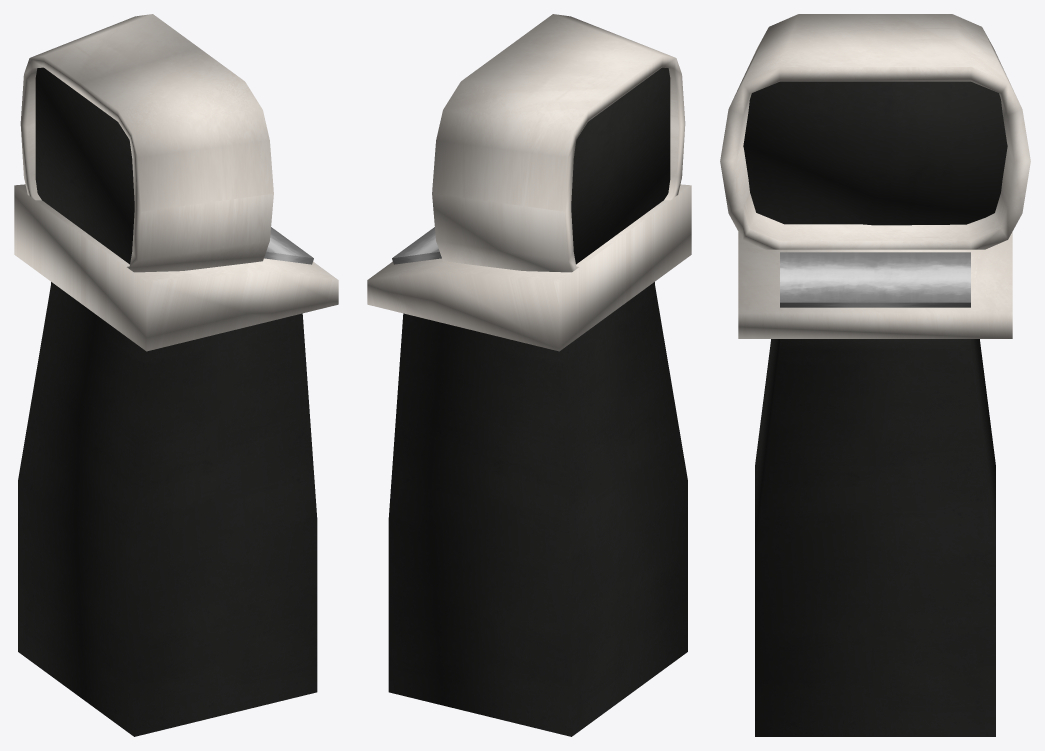
Rendered from console.fbx.
3 renders of one model, left to right at view 1: azimuth 30°, elevation 25°; view 2: azimuth 150°, elevation 25°; view 3: azimuth 270°, elevation 25°, orthographic. The views are drawn at different scales.
Parts seen in each view (by area): view 1: Cube.006, Cube.003, Cube.004, Cube, Cube.005; view 2: Cube.006, Cube.003, Cube.004, Cube, Cube.005; view 3: Cube.006, Cube, Cube.003, Cube.004, Cube.005.
Boxes of the visible parts, x1=… form: Cube.006: x1=18, y1=282, x2=317, y2=736; Cube.003: x1=20, y1=14, x2=273, y2=272; Cube.004: x1=14, y1=184, x2=338, y2=351; Cube: x1=35, y1=67, x2=134, y2=264; Cube.005: x1=264, y1=227, x2=313, y2=264; Cube.006: x1=388, y1=282, x2=687, y2=736; Cube.003: x1=432, y1=14, x2=685, y2=272; Cube.004: x1=367, y1=184, x2=691, y2=351; Cube: x1=571, y1=67, x2=670, y2=264; Cube.005: x1=392, y1=227, x2=441, y2=264; Cube.006: x1=755, y1=339, x2=995, y2=736; Cube: x1=743, y1=81, x2=1007, y2=225; Cube.003: x1=720, y1=14, x2=1030, y2=249; Cube.004: x1=738, y1=232, x2=1012, y2=338; Cube.005: x1=780, y1=252, x2=970, y2=307.
Bounding box in the file's own units: 246 × 738 × 325.
